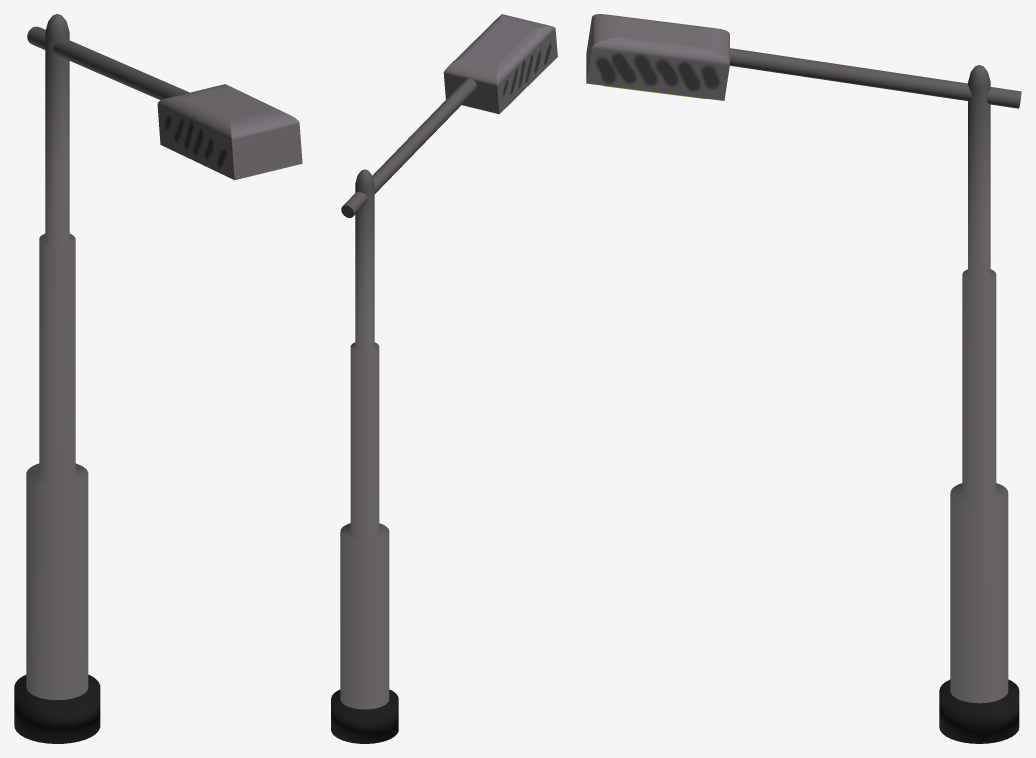
Rendered from streetlight.fbx.
3 renders of one model, left to right at view 1: azimuth 30°, elevation 25°; view 2: azimuth 150°, elevation 25°; view 3: azimuth 270°, elevation 25°, orthographic. The views are drawn at different scales.
Visible parts, largest first — view 1: streetlight; view 2: streetlight; view 3: streetlight.
Boxes of the visible parts, x1,y1,x2,y2 form: streetlight: (14, 14, 302, 743); streetlight: (331, 14, 557, 743); streetlight: (586, 14, 1021, 743).
Size of the model in its own units: 200 by 1928 by 1086.
